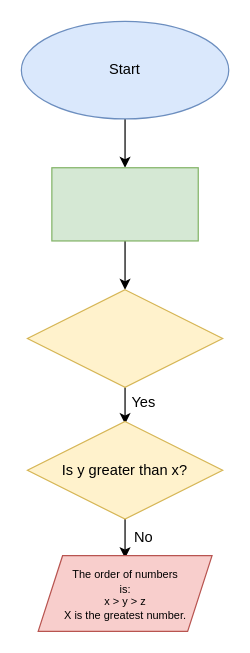
This 250x653 diagram has some shape labels left out. The centre of each missing label's shape, as x and y in pixels:
"Find the greatest number among x, y and z" goes at [124,204].
"Is y greater than z?" goes at [124,338].
